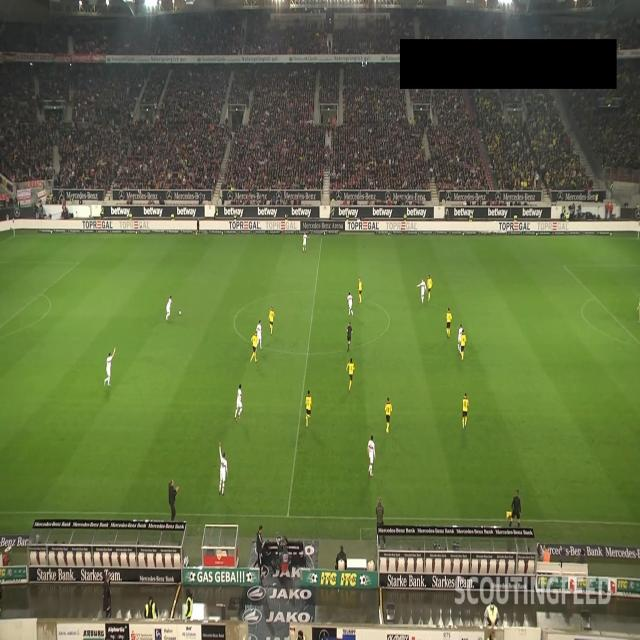ball: (178, 310, 182, 316)
